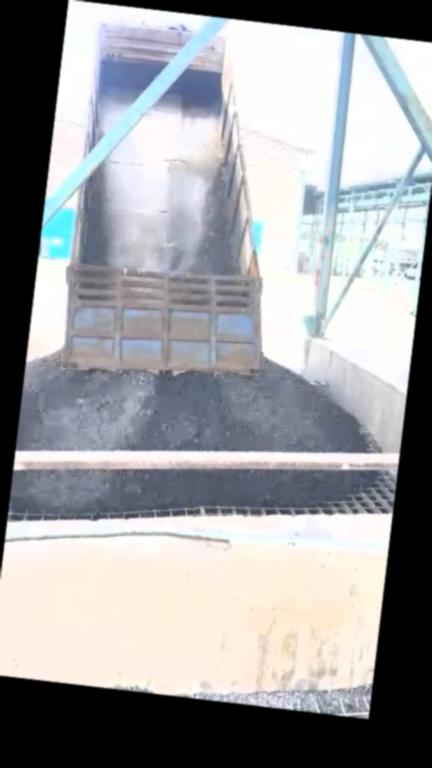gravel: (17, 353, 369, 452), (10, 470, 374, 514), (192, 685, 372, 718)
